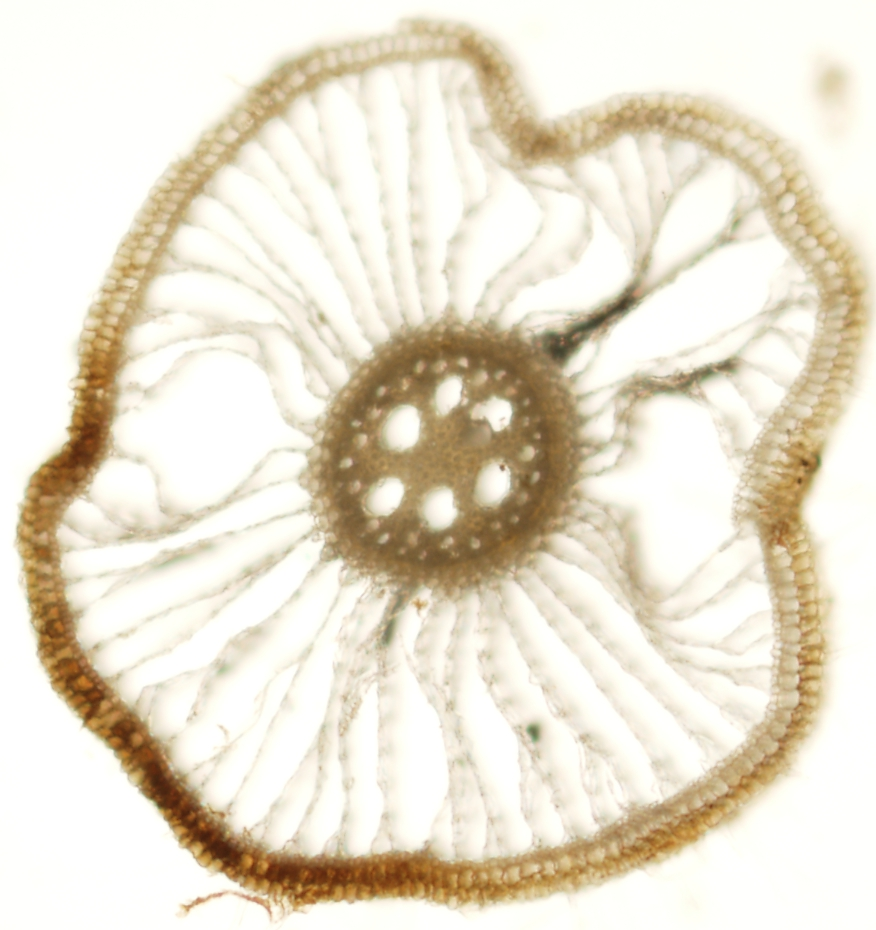lm: (379, 404, 421, 454), (472, 458, 511, 508), (360, 476, 404, 518), (418, 486, 458, 532), (470, 395, 513, 432), (432, 376, 464, 417)
